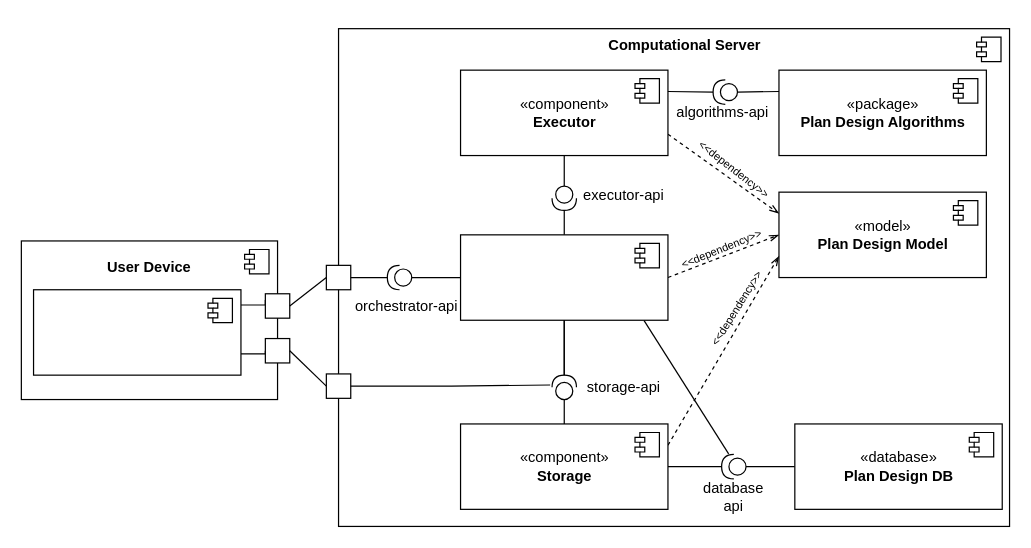
Image size: 1031x548. Some labels were removed from this diagram. Here are the shapes that lost their labels. From the top down, the centre of each, then its label:
At pixel 563 277: "«component» Orchestrator".
At pixel 136 332: "«component» Web Client".
